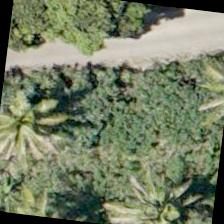Kelapa_Sawit: (0, 71, 68, 169), (111, 165, 210, 223)
